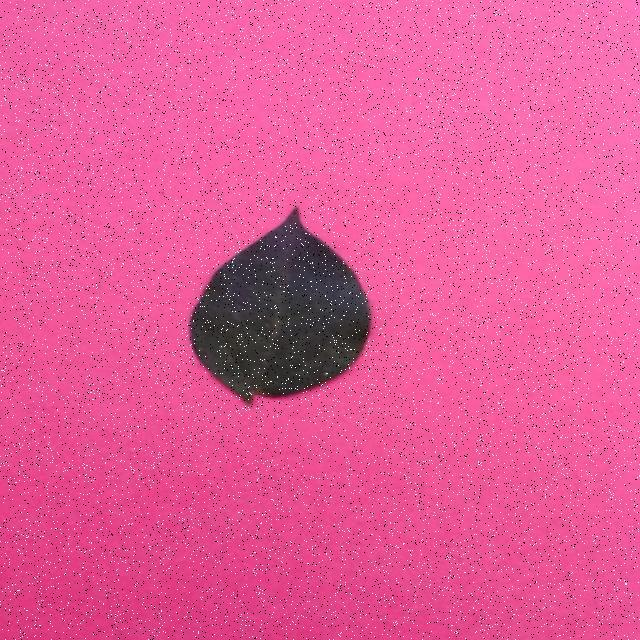foliage: (188, 205, 377, 404)
